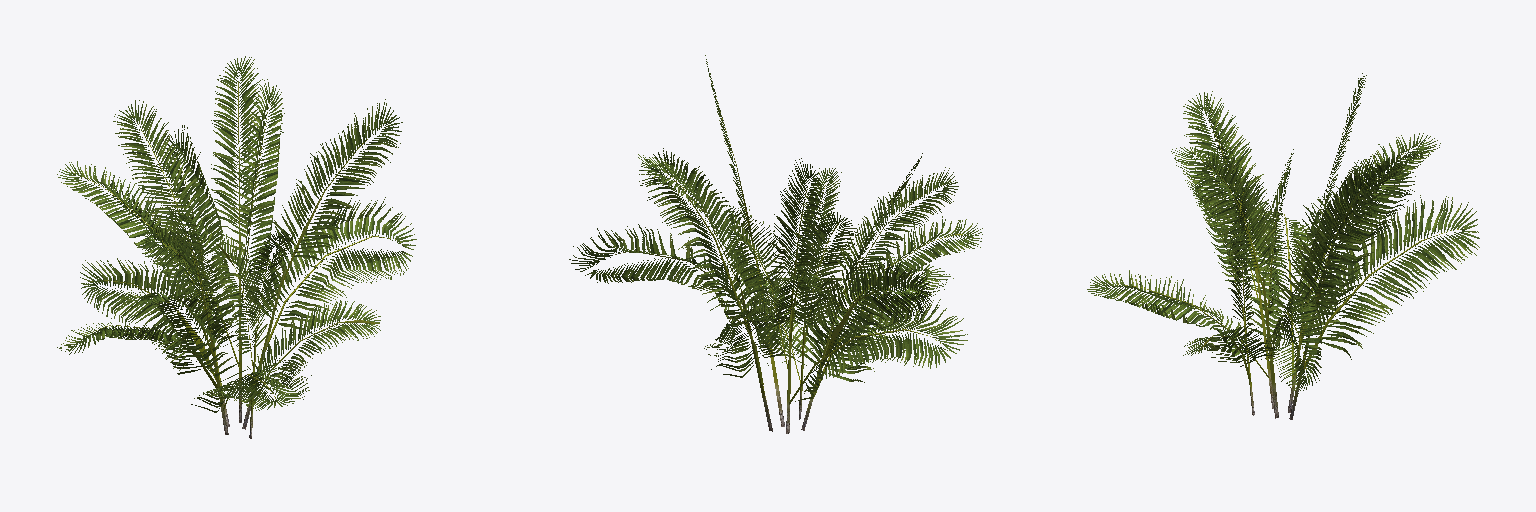
3 views of the same model, side by side, from view 1: azimuth 30°, elevation 25°; view 2: azimuth 150°, elevation 25°; view 3: azimuth 270°, elevation 25° (orthographic).
Visible parts, largest first — view 1: Foliage; view 2: Foliage; view 3: Foliage.
Boxes of the visible parts, x1=… form: Foliage: x1=57, y1=56, x2=416, y2=438; Foliage: x1=569, y1=55, x2=982, y2=433; Foliage: x1=1087, y1=73, x2=1479, y2=419.
Size of the model in its own units: 2.43 by 2 by 2.19.
Materials: 1 (1 with a texture image).